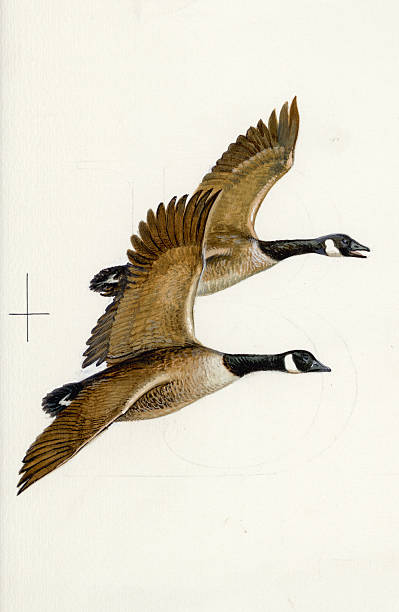goose: (9, 184, 334, 500), (78, 94, 372, 333)
